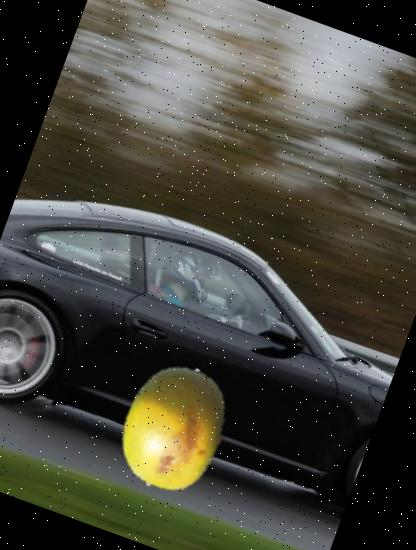Pomelo: (92, 346, 254, 510)
